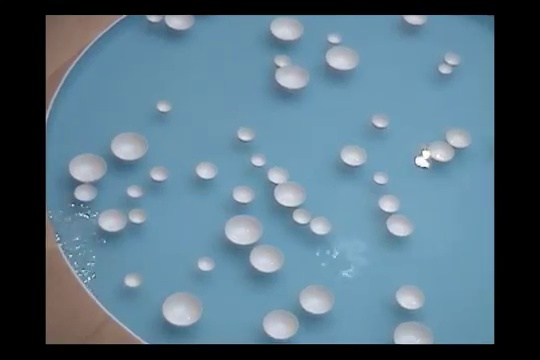bowl: (162, 291, 203, 328), (224, 214, 264, 248), (111, 131, 149, 164), (68, 152, 107, 184), (299, 283, 335, 317), (262, 308, 299, 340), (249, 243, 285, 275), (270, 16, 304, 45), (275, 65, 309, 93), (325, 45, 359, 73), (273, 181, 307, 208), (393, 321, 433, 343), (395, 284, 425, 312), (97, 208, 128, 234), (385, 213, 414, 238), (340, 144, 367, 168), (428, 140, 455, 164), (446, 127, 472, 151), (164, 14, 196, 31), (309, 215, 332, 237), (195, 161, 219, 182), (73, 183, 98, 203), (231, 185, 255, 205), (266, 165, 290, 185), (377, 194, 400, 213), (128, 207, 148, 225), (149, 166, 170, 183), (122, 271, 142, 288), (235, 126, 255, 143), (292, 208, 311, 225), (125, 184, 145, 199), (403, 15, 428, 27), (196, 256, 215, 271), (371, 113, 390, 128), (444, 51, 463, 66), (249, 153, 267, 167), (273, 53, 292, 66), (373, 171, 389, 186), (156, 99, 172, 113), (437, 62, 454, 75), (327, 32, 342, 45), (145, 14, 164, 23)
